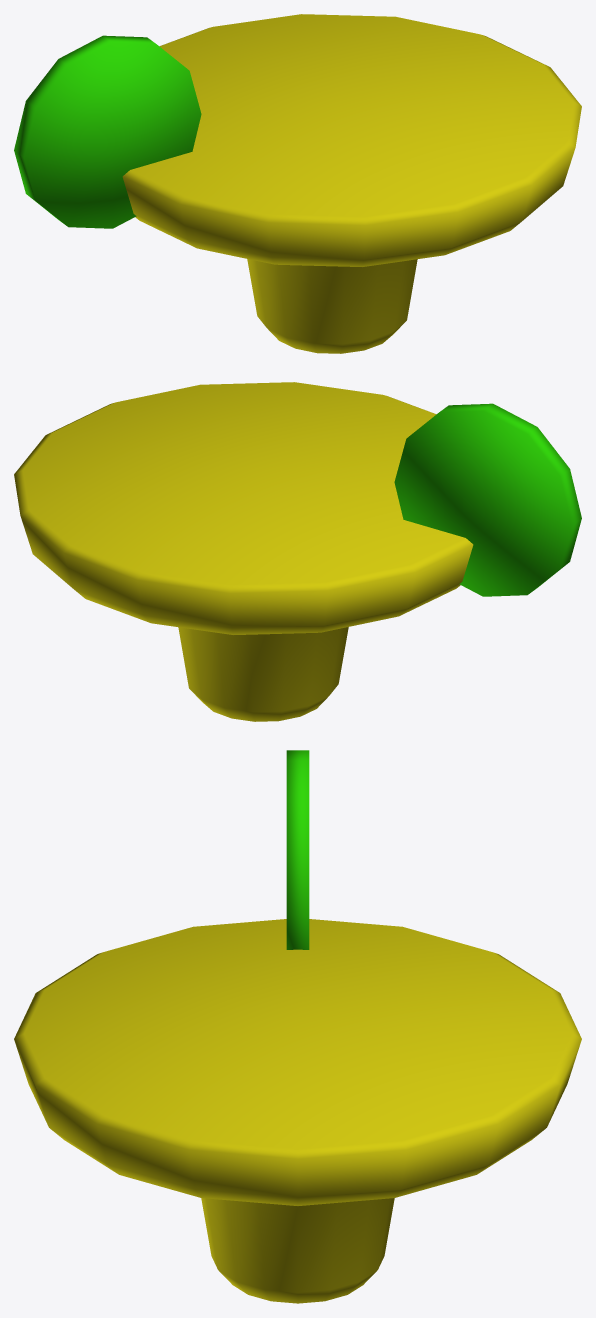
File: BHP_MOD_DRI_Margarita.fbx
3 renders of one model, top to bottom at view 1: azimuth 30°, elevation 25°; view 2: azimuth 150°, elevation 25°; view 3: azimuth 270°, elevation 25°, orthographic. The views are drawn at different scales.
Parts seen in each view (by area): view 1: BHP_MOD_Margarita; view 2: BHP_MOD_Margarita; view 3: BHP_MOD_Margarita.
Part boxes in pixels (box(x1,y1,x2,y2)): BHP_MOD_Margarita: box(14, 14, 581, 353); BHP_MOD_Margarita: box(14, 382, 581, 721); BHP_MOD_Margarita: box(14, 750, 581, 1303).
Bounding box in the file's own units: 0.2358 × 0.1533 × 0.1928.
